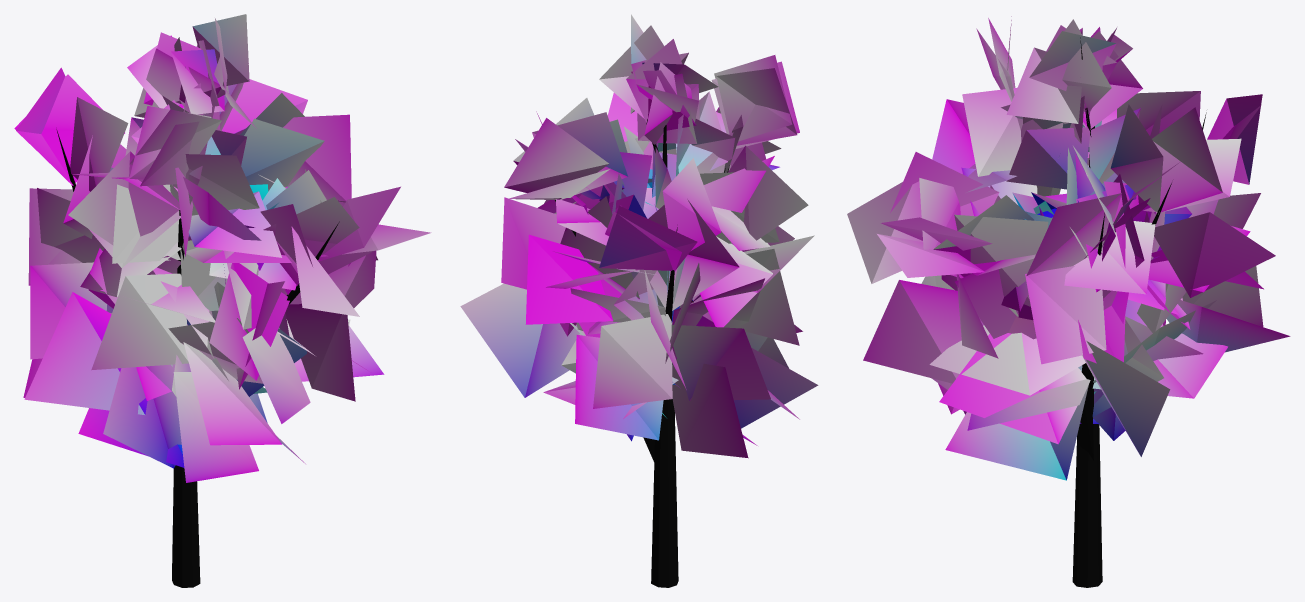
The model's file is birch_01_a.dae.
3 views of the same model, side by side, from view 1: azimuth 30°, elevation 25°; view 2: azimuth 150°, elevation 25°; view 3: azimuth 270°, elevation 25° (orthographic). The views are drawn at different scales.
Visible parts, largest first — view 1: bircha80; view 2: bircha80; view 3: bircha80.
Boxes of the visible parts, left/top/right/bottom form: bircha80: left=14, top=14, right=431, bottom=587; bircha80: left=460, top=14, right=818, bottom=587; bircha80: left=847, top=16, right=1290, bottom=587.
Size of what is drawn, in the model's own units: 10.19 by 11.98 by 17.13.
